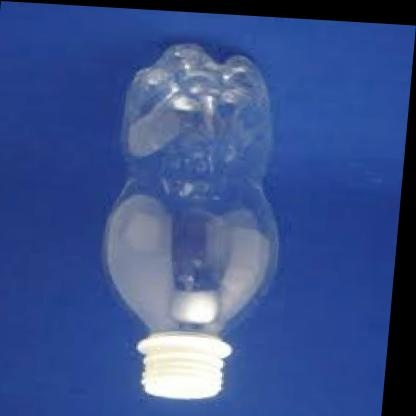trash: (104, 44, 277, 398)
